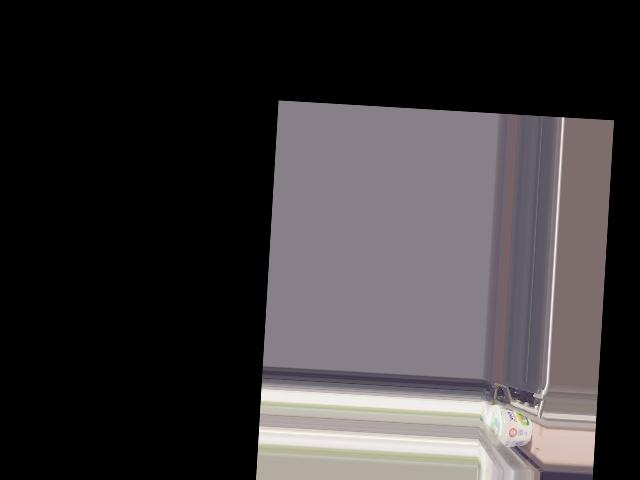cotage: (484, 406, 532, 449)
